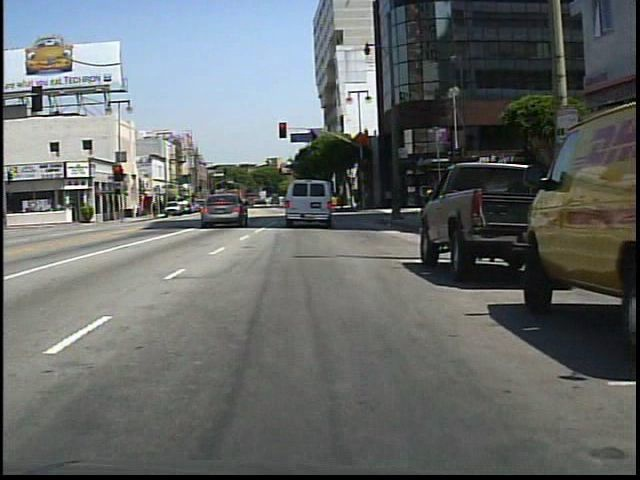person: (302, 185, 323, 222), (235, 193, 252, 218)
